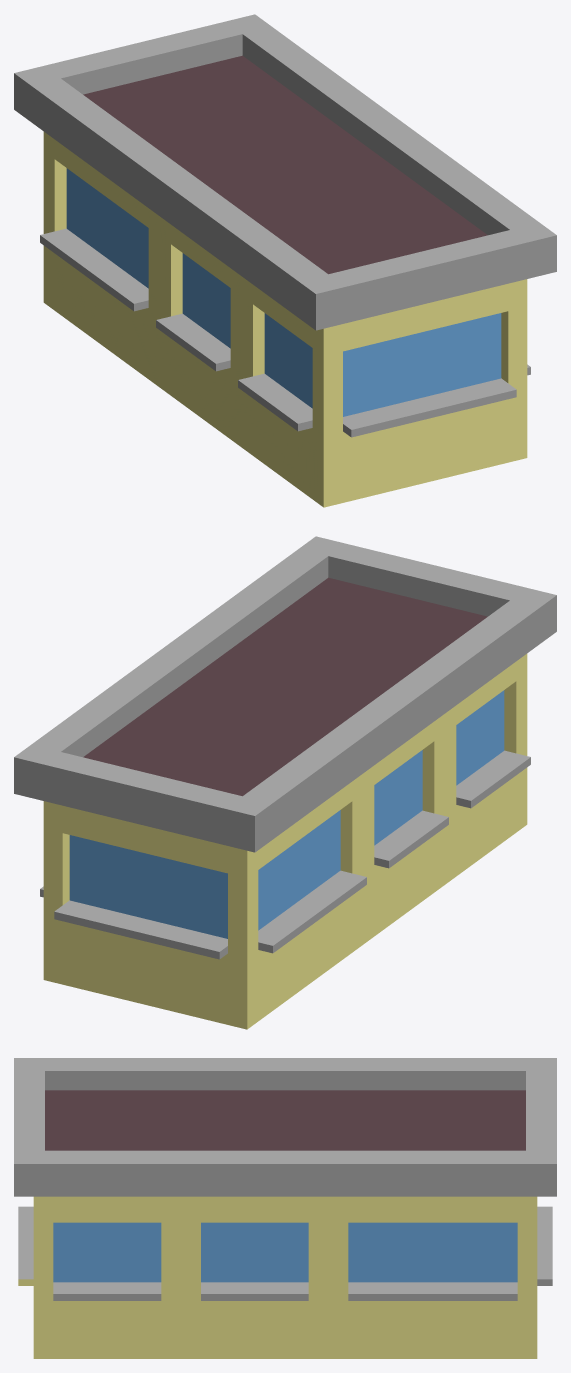
File: building_1x2_2_r.glb
3 views of the same model, one above another, from view 1: azimuth 30°, elevation 25°; view 2: azimuth 150°, elevation 25°; view 3: azimuth 270°, elevation 25° (orthographic). The views are drawn at different scales.
Parts seen in each view (by area): view 1: Cube.002; view 2: Cube.002; view 3: Cube.002.
Part boxes in pixels (bbox=[...]): Cube.002: bbox=[14, 14, 556, 507]; Cube.002: bbox=[14, 536, 556, 1029]; Cube.002: bbox=[14, 1058, 556, 1358].
Size of the model in its own units: 1.81 by 1.62 by 3.92.
